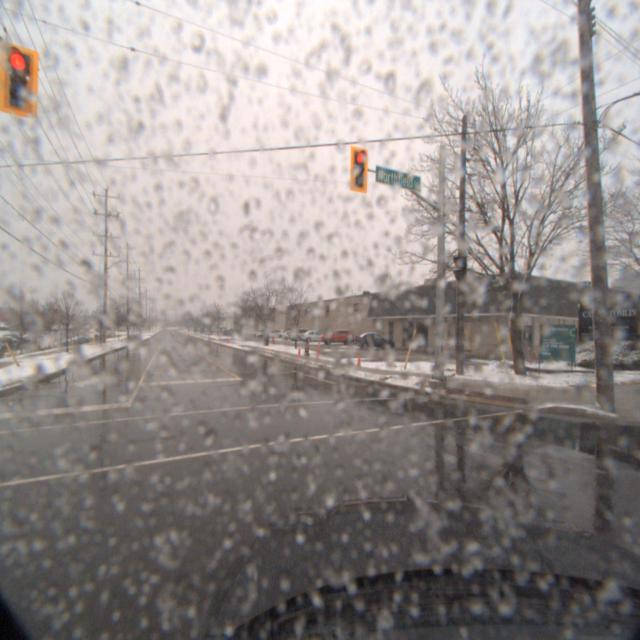Car: (353, 331, 398, 350), (320, 328, 358, 346), (301, 330, 332, 343)
